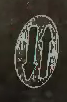Two way: (14, 12, 57, 94)
